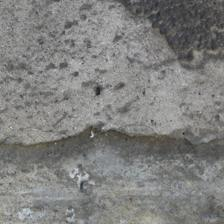Crack: (6, 119, 201, 153)
